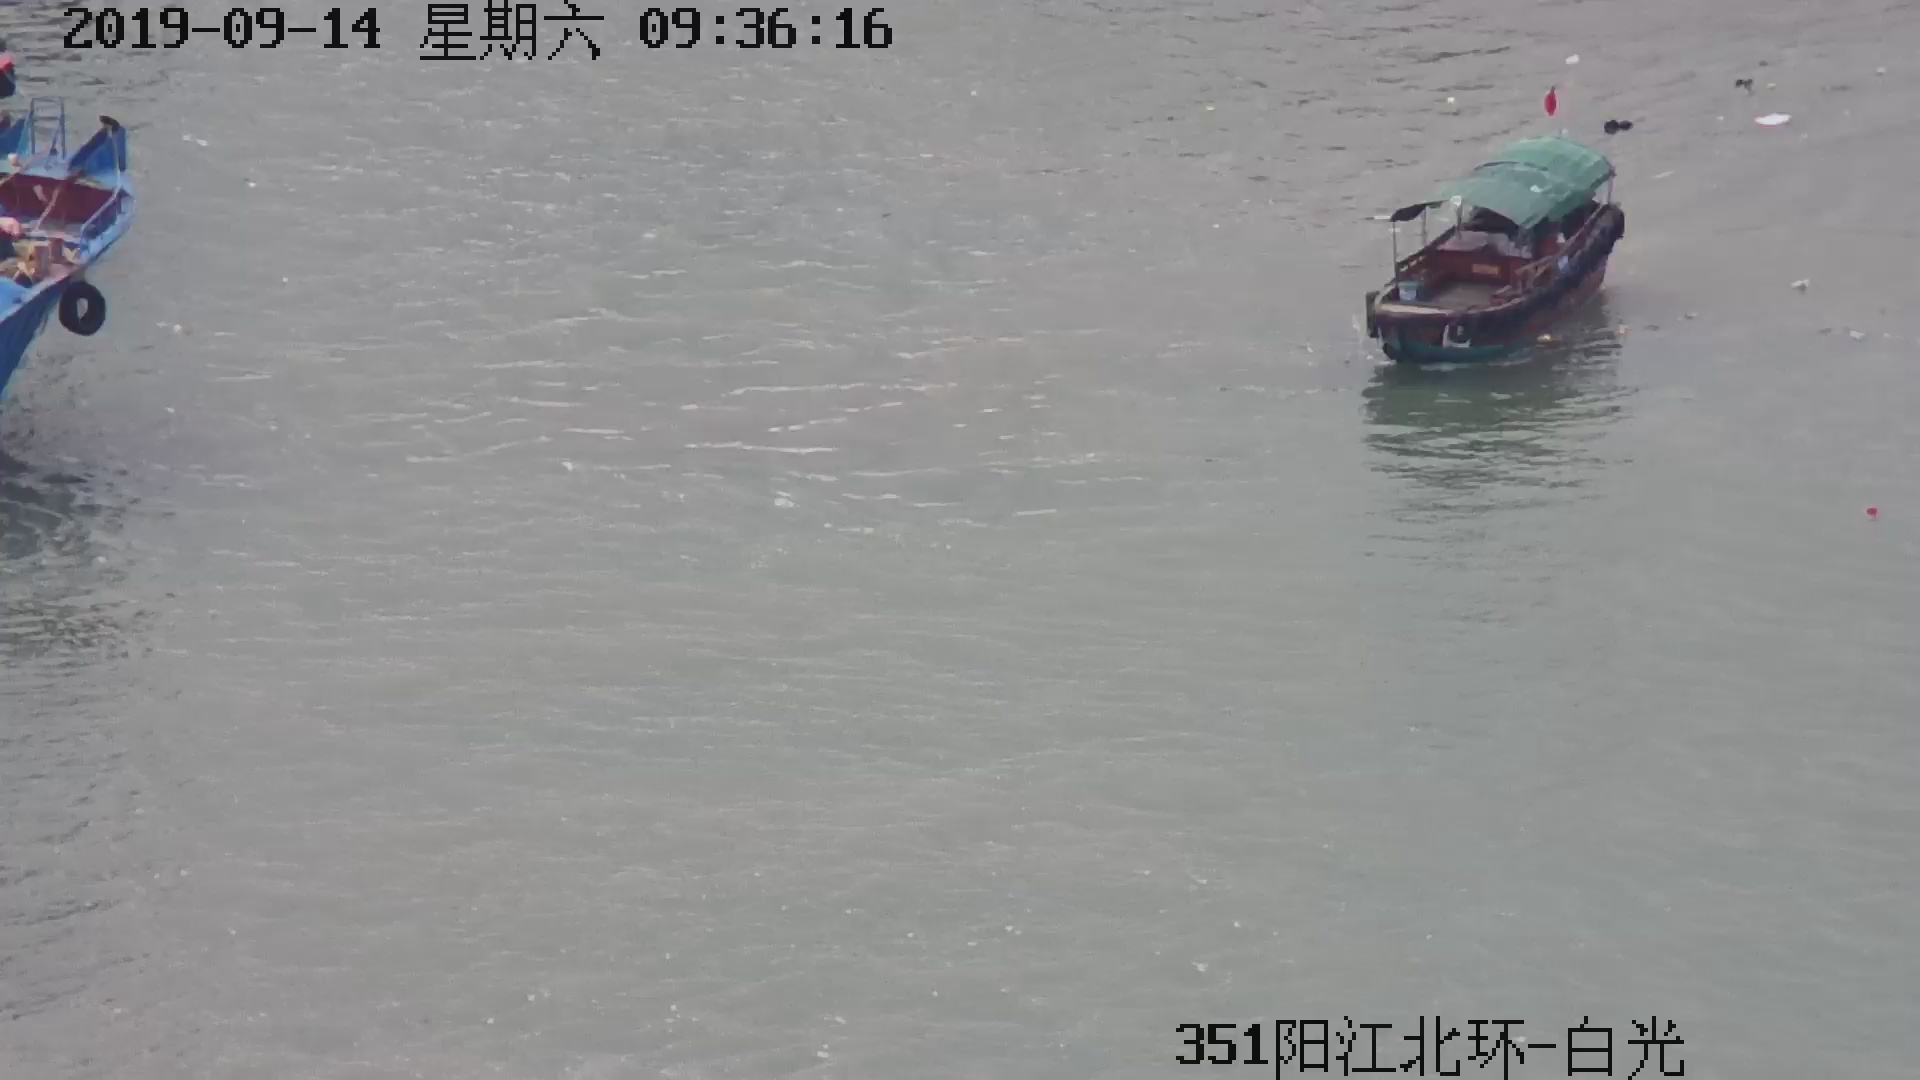ship: (1366, 128, 1625, 375)
